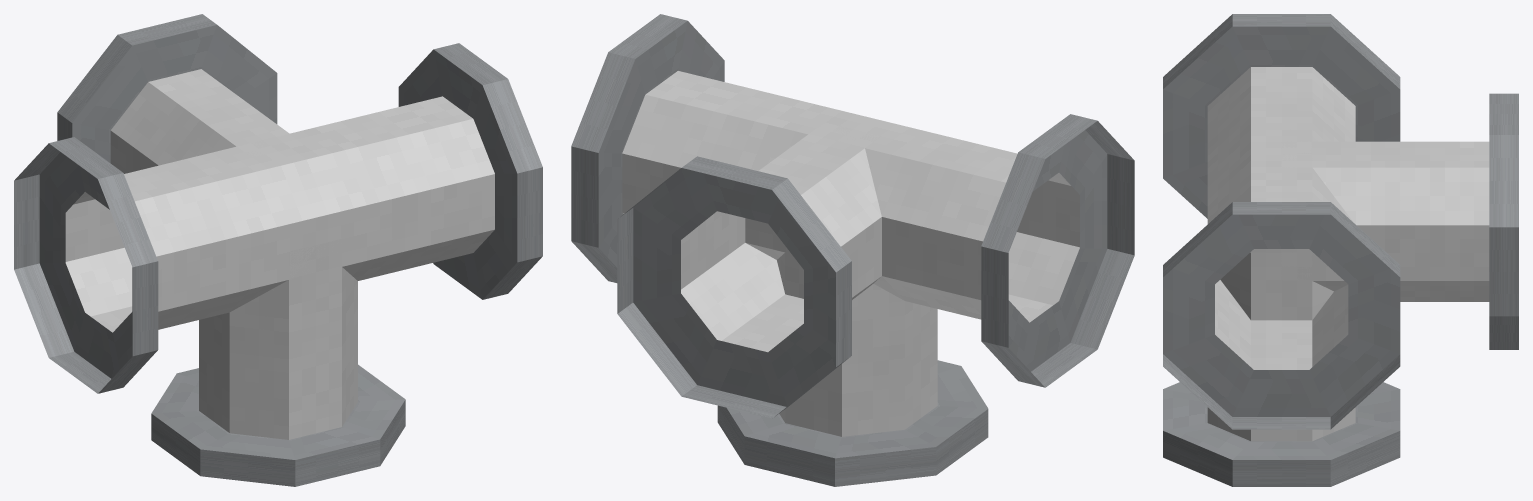
Rendered from connection_53.obj.
3 views of the same model, side by side, from view 1: azimuth 30°, elevation 25°; view 2: azimuth 150°, elevation 25°; view 3: azimuth 270°, elevation 25° (orthographic). The views are drawn at different scales.
Bounding box in the file's own units: 1 × 0.75 × 0.75.
